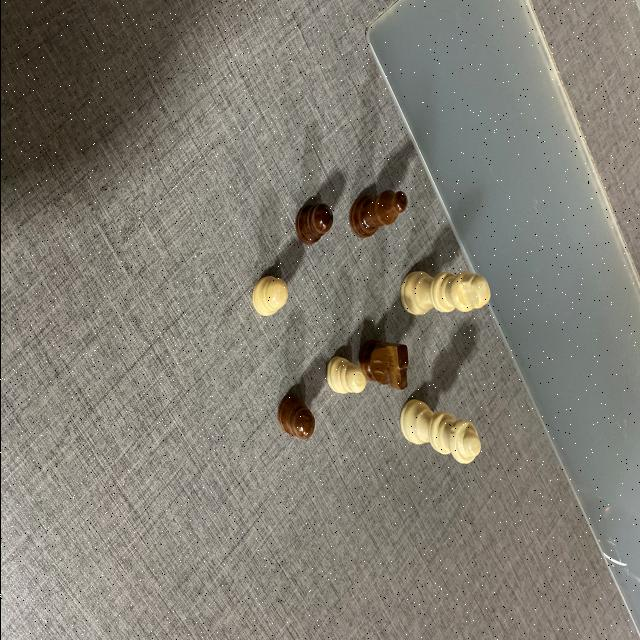Black-Bishop: (347, 190, 407, 240)
Black-Knight: (358, 338, 408, 392)
Black-Pawn: (275, 394, 315, 442), (294, 202, 334, 247)
White-King: (398, 268, 491, 315)
White-Pawn: (250, 274, 288, 318), (325, 356, 366, 396)
White-Queen: (398, 398, 480, 466)
